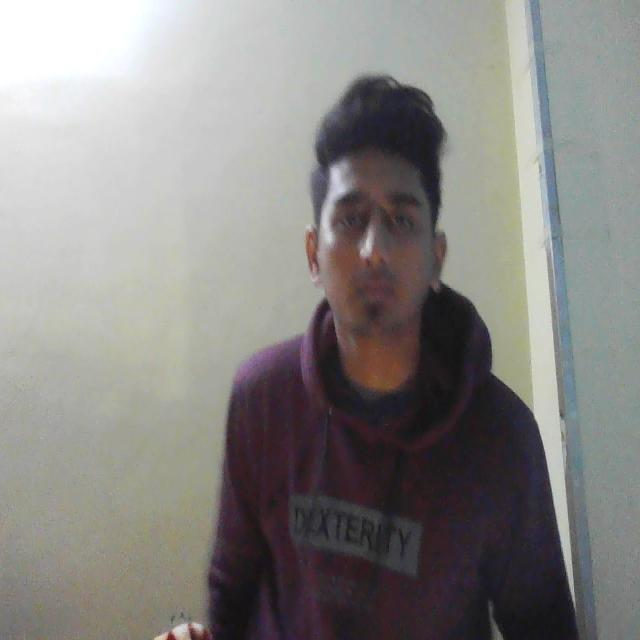real: (313, 90, 457, 362)
